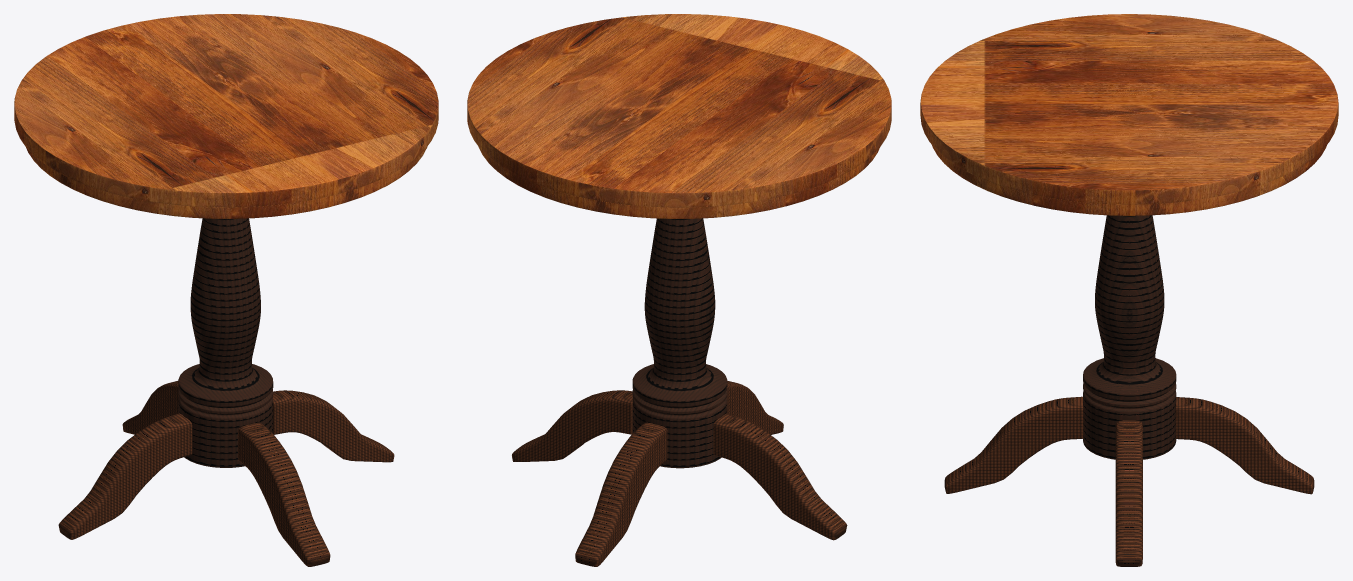
File: table.dae
3 views of the same model, side by side, from view 1: azimuth 30°, elevation 25°; view 2: azimuth 150°, elevation 25°; view 3: azimuth 270°, elevation 25° (orthographic).
Parts seen in each view (by area): view 1: 3DSMeshMatrix.004, 3DSMeshMatrix.007, 3DSMeshMatrix, 3DSMeshMatrix.003, 3DSMeshMatrix.002, 3DSMeshMatrix.001; view 2: 3DSMeshMatrix.004, 3DSMeshMatrix.007, 3DSMeshMatrix, 3DSMeshMatrix.001, 3DSMeshMatrix.002, 3DSMeshMatrix.003; view 3: 3DSMeshMatrix.004, 3DSMeshMatrix.007, 3DSMeshMatrix.003, 3DSMeshMatrix.001, 3DSMeshMatrix.002.
Boxes of the visible parts, bbox=[...] form: 3DSMeshMatrix.004: bbox=[14, 14, 438, 218]; 3DSMeshMatrix.007: bbox=[178, 218, 273, 467]; 3DSMeshMatrix: bbox=[58, 413, 192, 539]; 3DSMeshMatrix.003: bbox=[238, 422, 330, 566]; 3DSMeshMatrix.002: bbox=[272, 390, 394, 462]; 3DSMeshMatrix.001: bbox=[122, 381, 178, 434]; 3DSMeshMatrix.004: bbox=[467, 14, 891, 218]; 3DSMeshMatrix.007: bbox=[632, 218, 727, 468]; 3DSMeshMatrix: bbox=[713, 413, 847, 540]; 3DSMeshMatrix.001: bbox=[575, 422, 667, 566]; 3DSMeshMatrix.002: bbox=[512, 390, 632, 461]; 3DSMeshMatrix.003: bbox=[727, 381, 783, 434]; 3DSMeshMatrix.004: bbox=[920, 14, 1338, 215]; 3DSMeshMatrix.007: bbox=[1083, 215, 1176, 459]; 3DSMeshMatrix.003: bbox=[944, 396, 1083, 493]; 3DSMeshMatrix.001: bbox=[1175, 397, 1314, 494]; 3DSMeshMatrix.002: bbox=[1115, 420, 1142, 566].
Size of the model in its own units: 0.6034 by 0.6034 by 0.6169.
